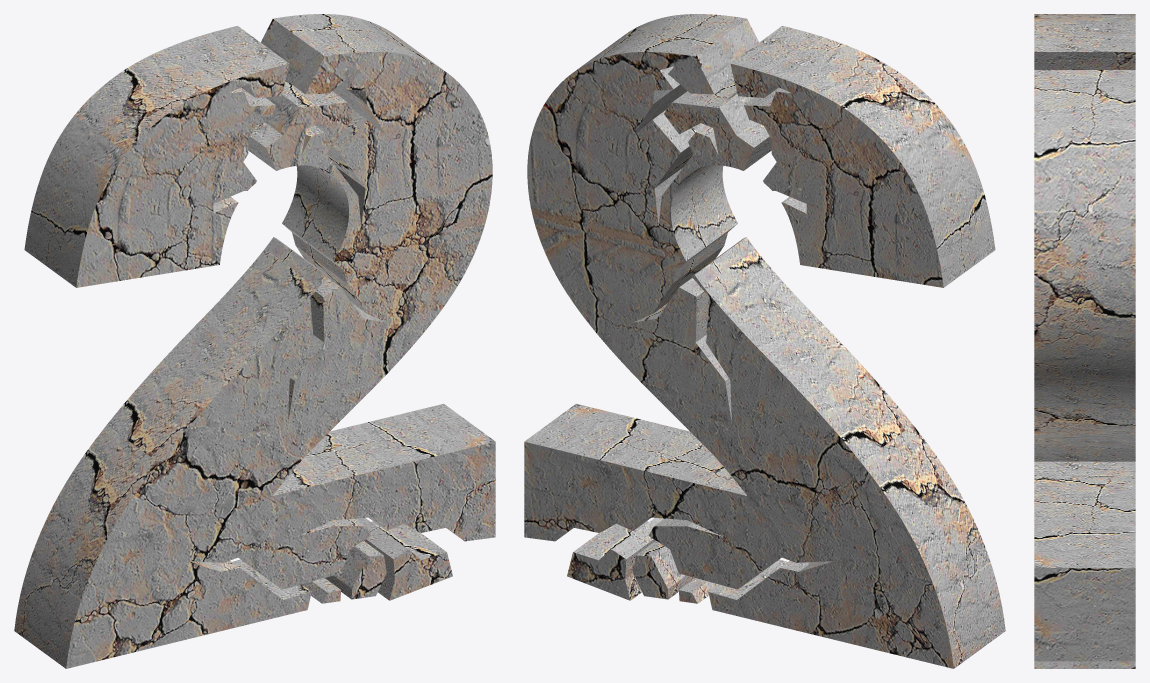
3 renders of one model, left to right at view 1: azimuth 30°, elevation 25°; view 2: azimuth 150°, elevation 25°; view 3: azimuth 270°, elevation 25°, orthographic. The views are drawn at different scales.
Parts seen in each view (by area): view 1: 2; view 2: 2; view 3: 2.
Boxes of the visible parts, x1=… form: 2: x1=14, y1=14, x2=495, y2=668; 2: x1=524, y1=14, x2=1005, y2=668; 2: x1=1034, y1=14, x2=1135, y2=668.
Bounding box in the file's own units: 71.74 × 89.62 × 15.
1 material, 1 textured.
